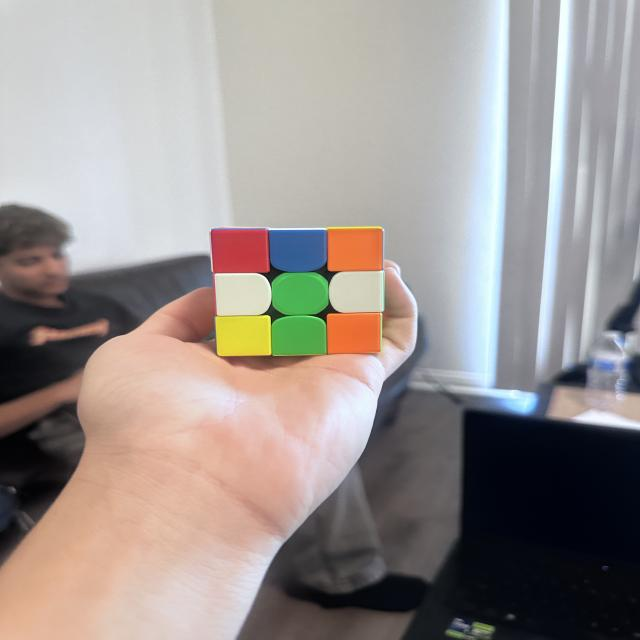sticker: (208, 226, 272, 276), (267, 228, 329, 276), (325, 226, 385, 274), (270, 270, 330, 318), (211, 272, 273, 318), (327, 269, 386, 315), (213, 314, 272, 358), (324, 312, 383, 356), (270, 314, 328, 357)
